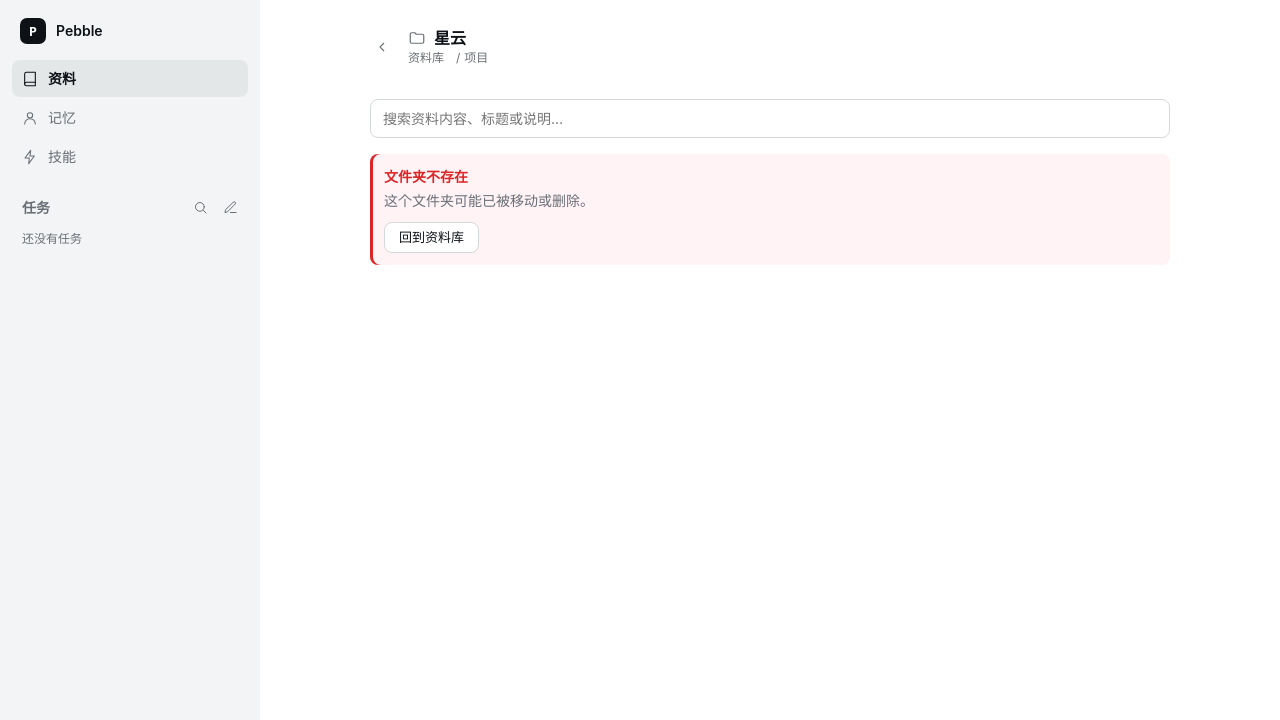
Scenario: 子文件夹以文件夹名为标题，面包屑只列上级，返回按钮回到上一级
Expected: the heading reads "星云", [434,28,466,48]
Expected: the navigation bar named "当前位置" reads "资料库 / 项目", [408,50,488,65]
What coordinates should you click on to do the following:
click the link named "返回上一级"
I would click on:
 (382, 47)
Its box is [374,39,390,55].
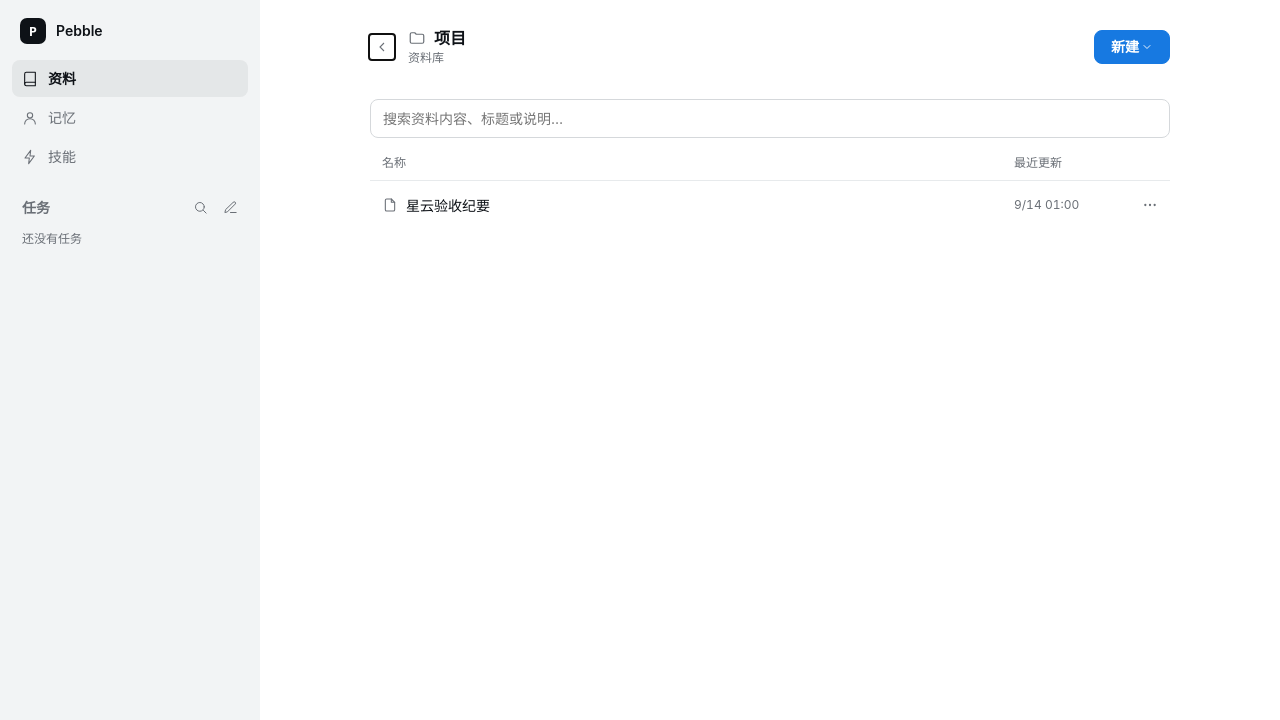
Now the heading reads "项目", box [434,28,466,48]
What coordinates should you click on to do the following:
click the link named "返回上一级"
I would click on:
 (382, 47)
Its box is [374,39,390,55].
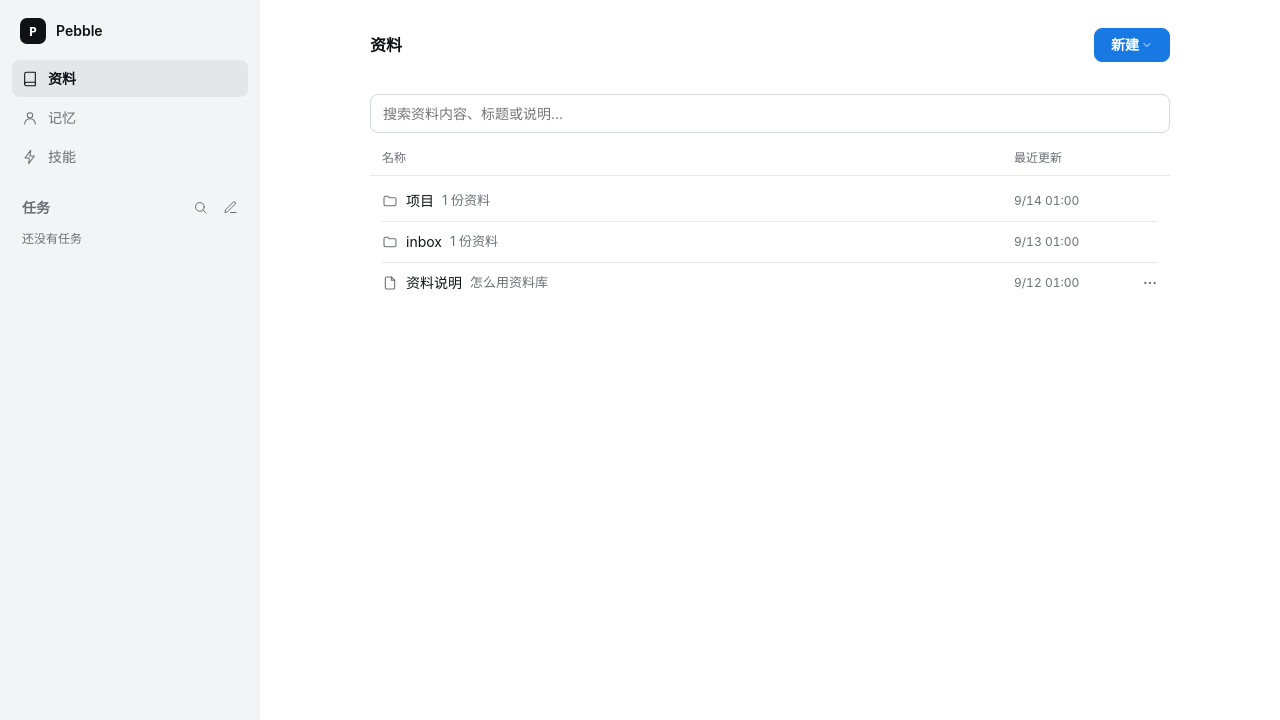
Now the heading reads "资料", box [370,35,402,55]
Now the link "返回上一级" is gone
